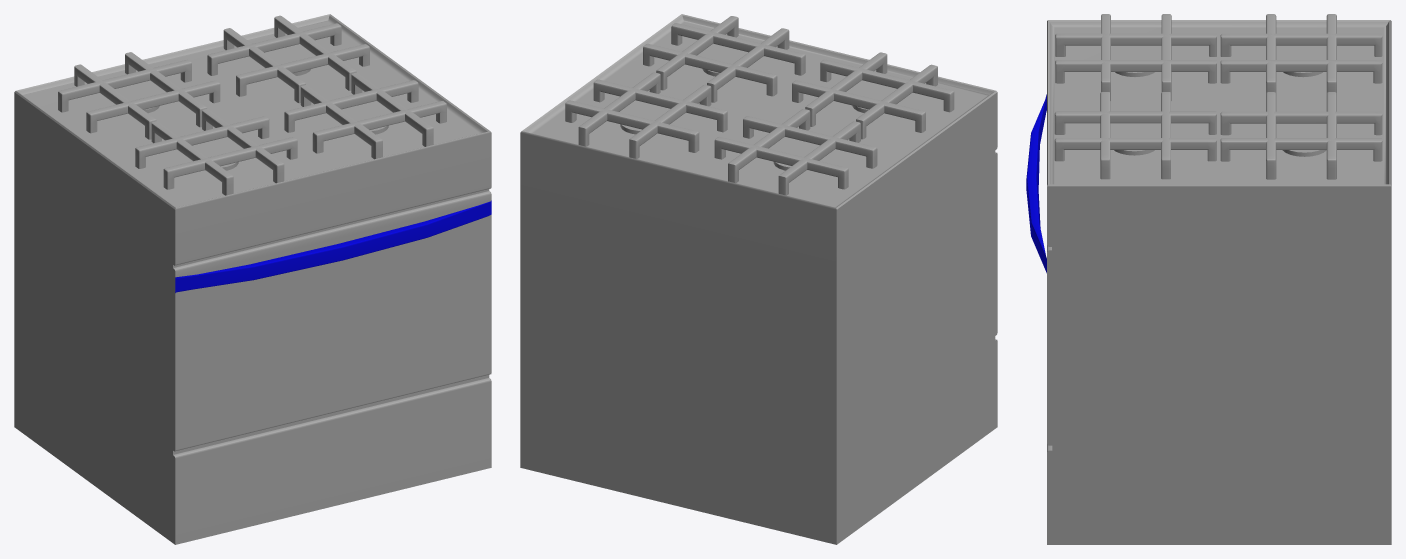
File: oven.fbx
3 renders of one model, left to right at view 1: azimuth 30°, elevation 25°; view 2: azimuth 150°, elevation 25°; view 3: azimuth 270°, elevation 25°, orthographic. The views are drawn at different scales.
Parts seen in each view (by area): view 1: oven, griddle1, griddle2, griddle3, griddle4; view 2: oven, griddle3, griddle4, griddle2, griddle1; view 3: oven, griddle3, griddle2, griddle4, griddle1.
Part boxes in pixels (box(x1,y1,x2,y2)): oven: box(14, 14, 491, 544); griddle1: box(135, 108, 297, 195); griddle2: box(284, 72, 446, 159); griddle3: box(207, 15, 369, 103); griddle4: box(58, 52, 220, 139); oven: box(520, 14, 997, 544); griddle3: box(565, 72, 727, 158); griddle4: box(714, 109, 877, 195); griddle2: box(643, 16, 805, 102); griddle1: box(792, 52, 954, 139); oven: box(1026, 20, 1391, 544); griddle3: box(1220, 92, 1382, 179); griddle2: box(1054, 92, 1216, 179); griddle4: box(1220, 14, 1382, 93); griddle1: box(1055, 14, 1216, 100).
Size of the model in its own units: 27.68 by 29.34 by 25.84.
